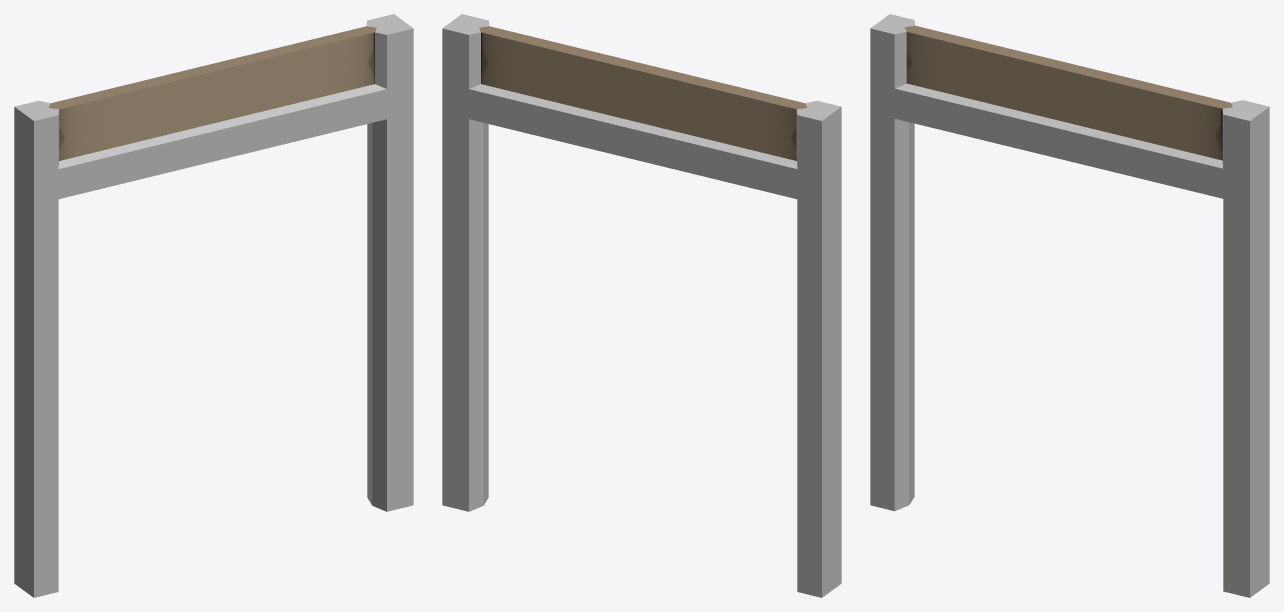
File: SM_Bld_Wall_Doorway_03.fbx
3 views of the same model, side by side, from view 1: azimuth 30°, elevation 25°; view 2: azimuth 150°, elevation 25°; view 3: azimuth 330°, elevation 25° (orthographic).
Parts seen in each view (by area): view 1: SM_Bld_Wall_Doorway_03; view 2: SM_Bld_Wall_Doorway_03; view 3: SM_Bld_Wall_Doorway_03.
Part boxes in pixels (box(x1,y1,x2,y2)): SM_Bld_Wall_Doorway_03: box(14, 14, 413, 597); SM_Bld_Wall_Doorway_03: box(442, 14, 841, 597); SM_Bld_Wall_Doorway_03: box(870, 14, 1269, 597).
Size of the model in its own units: 250 by 300 by 22.5.
